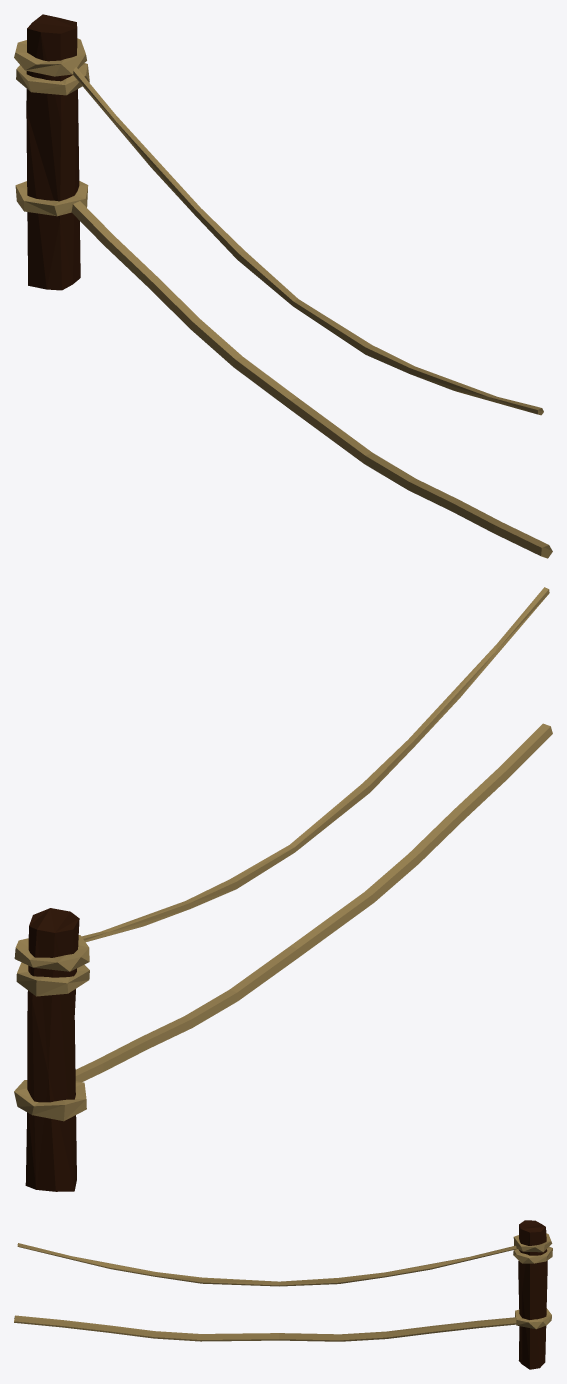
File: ENV_Adventure_Ropes_04.fbx
3 renders of one model, top to bottom at view 1: azimuth 30°, elevation 25°; view 2: azimuth 150°, elevation 25°; view 3: azimuth 270°, elevation 25°, orthographic. The views are drawn at different scales.
Parts seen in each view (by area): view 1: ENV_Adventure_Ropes_04; view 2: ENV_Adventure_Ropes_04; view 3: ENV_Adventure_Ropes_04.
Part boxes in pixels (x1,y1,x2,y2): ENV_Adventure_Ropes_04: [14, 14, 552, 558]; ENV_Adventure_Ropes_04: [14, 587, 552, 1191]; ENV_Adventure_Ropes_04: [14, 1220, 552, 1369].
Bounding box in the file's own units: 29.99 × 115 × 407.
